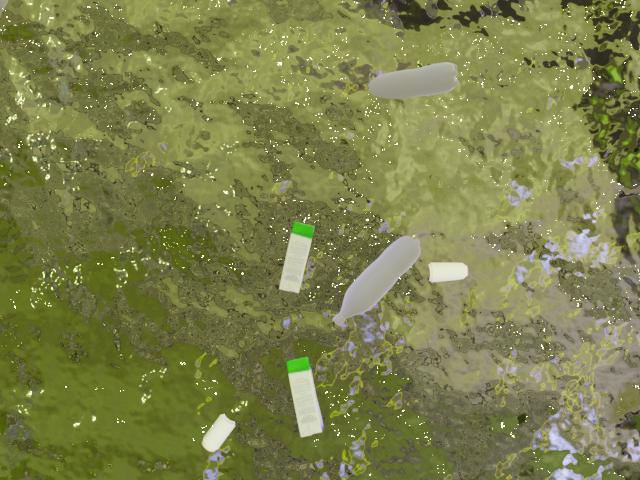Metal: (186, 398, 247, 456), (428, 249, 474, 303)
Plastic: (333, 210, 424, 328), (359, 56, 481, 111)
Trash: (284, 340, 331, 444), (276, 219, 319, 295)
